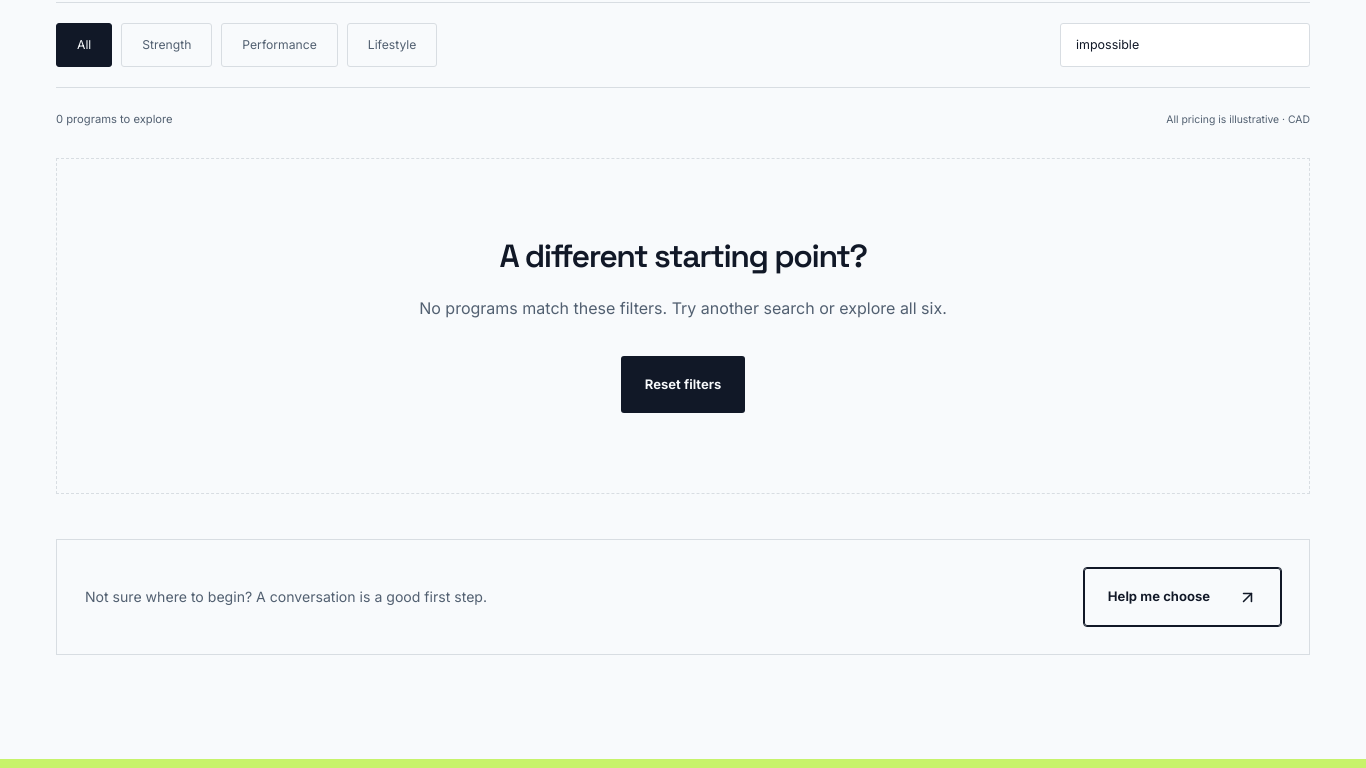
Test: program content and filters › shows an empty state and a working reset
(page scrolled)
Expected: the heading "A different starting point?" is shown, [500,236,866,276]
What coordinates should you click on to do the following:
click the button "Reset filters"
I would click on:
 (683, 385)
Its box is [621,356,745,413].
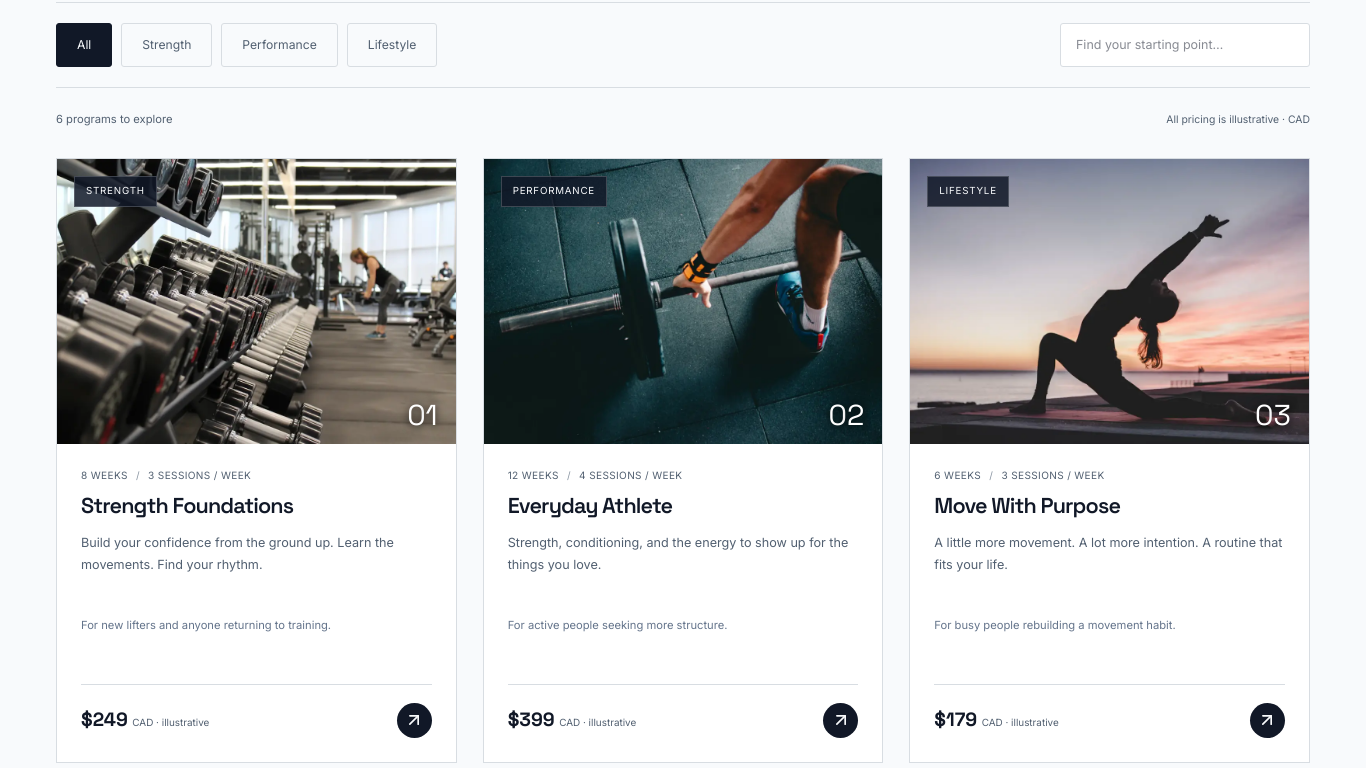
Now the message shows "6 programs", box [56,110,172,130]
